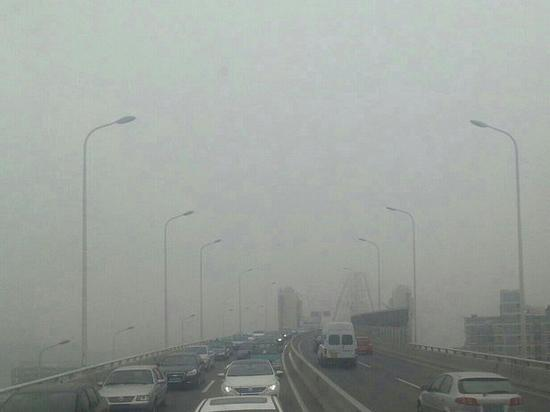car: (416, 369, 525, 412), (96, 362, 168, 411), (1, 380, 113, 411), (216, 357, 284, 401), (316, 322, 359, 366), (158, 351, 206, 389), (247, 340, 284, 374), (182, 343, 215, 371), (350, 333, 374, 356), (208, 339, 231, 361), (236, 341, 260, 360)
